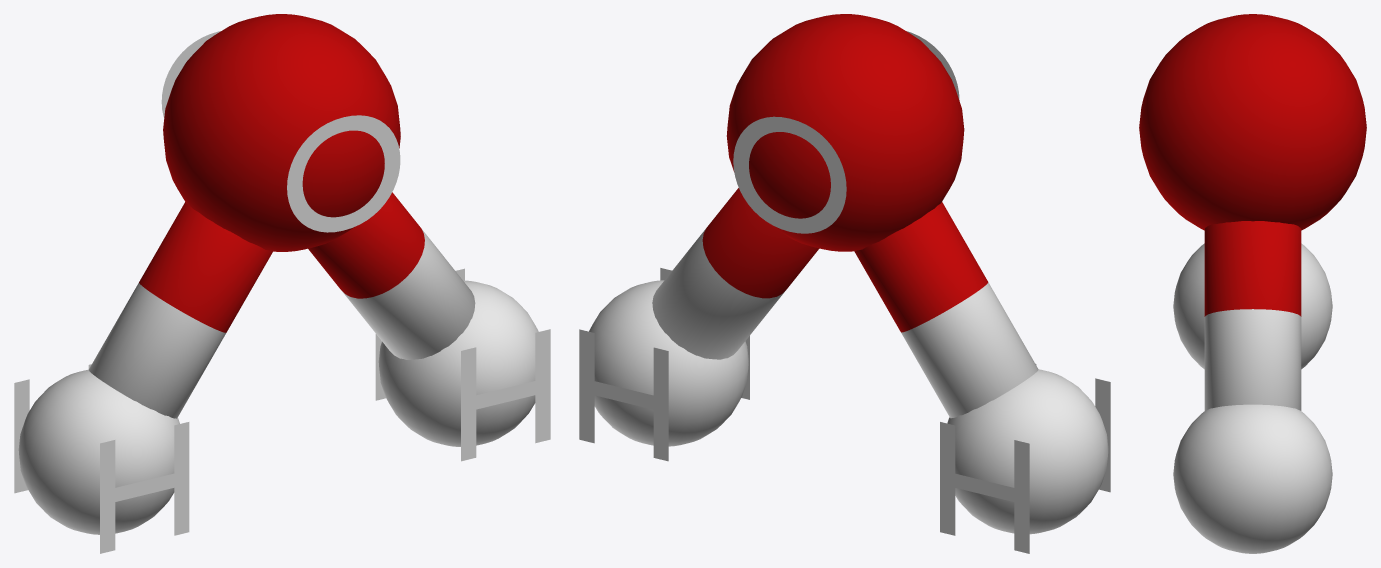
The picture shows the model from 3 angles, left to right: view 1: azimuth 30°, elevation 25°; view 2: azimuth 150°, elevation 25°; view 3: azimuth 270°, elevation 25°; orthographic projection. The views are drawn at different scales.
Visible parts, largest first — view 1: Oxygen, Cylinder, Hydrogen2, Cylinder.001, Hydrogen1, OxygenTextBack, Hydrogen1TextBack, Hydrogen2TextBack, Hydrogen2TextFront, OxygenTextFront; view 2: Oxygen, Cylinder, Hydrogen2, Cylinder.001, Hydrogen1, OxygenTextFront, Hydrogen1TextFront, Hydrogen2TextFront, Hydrogen2TextBack; view 3: Oxygen, Hydrogen1, Cylinder.001, Hydrogen2.
Boxes of the visible parts, x1,y1,x2,y2 form: Oxygen: [163, 14, 400, 251]; Cylinder: [89, 202, 272, 418]; Hydrogen2: [18, 369, 179, 534]; Cylinder.001: [308, 192, 475, 359]; Hydrogen1: [378, 280, 538, 446]; OxygenTextBack: [287, 115, 400, 232]; Hydrogen1TextBack: [461, 329, 550, 461]; Hydrogen2TextBack: [100, 422, 189, 553]; Hydrogen2TextFront: [14, 364, 91, 493]; OxygenTextFront: [161, 31, 220, 117]; Oxygen: [726, 14, 964, 251]; Cylinder: [854, 202, 1038, 418]; Hydrogen2: [947, 369, 1108, 534]; Cylinder.001: [652, 188, 819, 359]; Hydrogen1: [589, 280, 748, 446]; OxygenTextFront: [733, 116, 846, 233]; Hydrogen1TextFront: [579, 329, 668, 461]; Hydrogen2TextFront: [940, 422, 1029, 553]; Hydrogen2TextBack: [1035, 364, 1110, 492]; Oxygen: [1139, 14, 1366, 230]; Hydrogen1: [1173, 404, 1332, 553]; Cylinder.001: [1204, 221, 1301, 410]; Hydrogen2: [1173, 243, 1332, 369].
Bounding box in the file's own units: 489 × 424 × 200.
